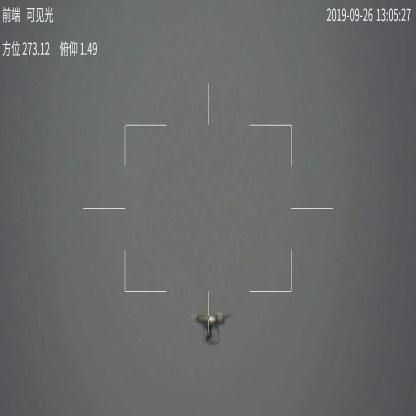uav: (187, 309, 230, 345)
